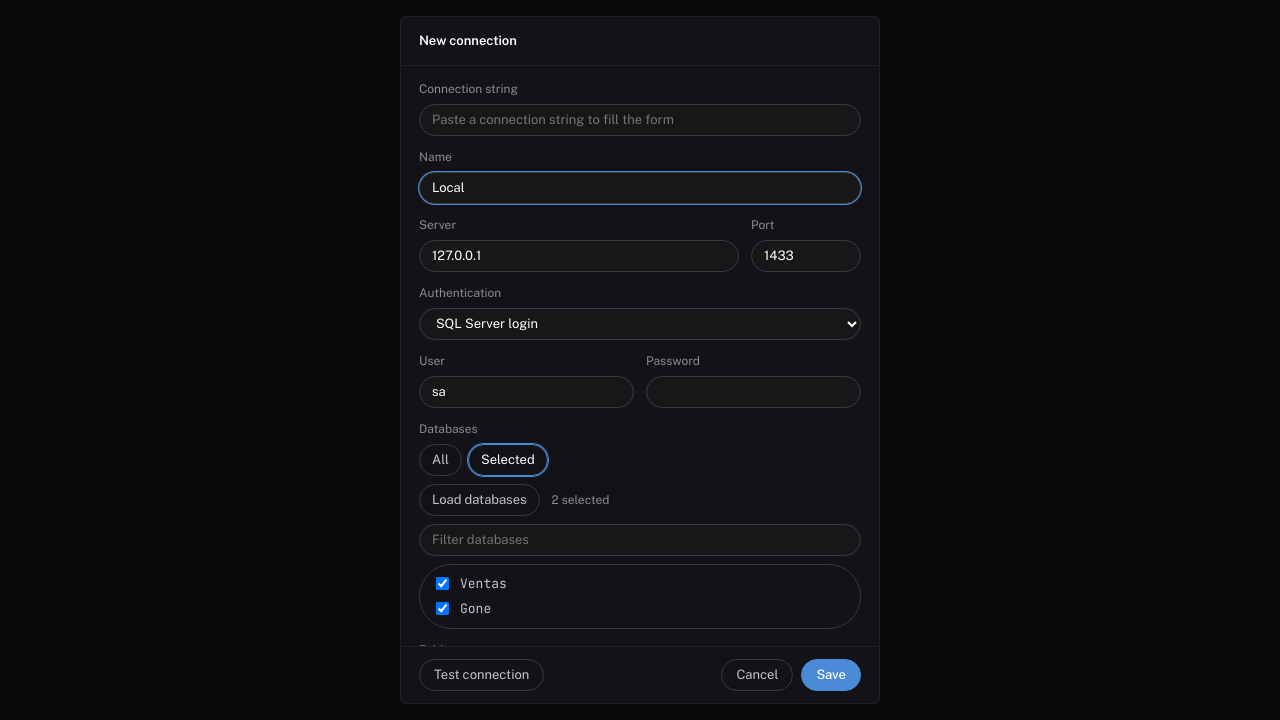
Test case: a password_required answer asks for the password inline
The image size is (1280, 720).
Click the button "Load databases" at coordinates (479, 500), box [419, 484, 540, 516]
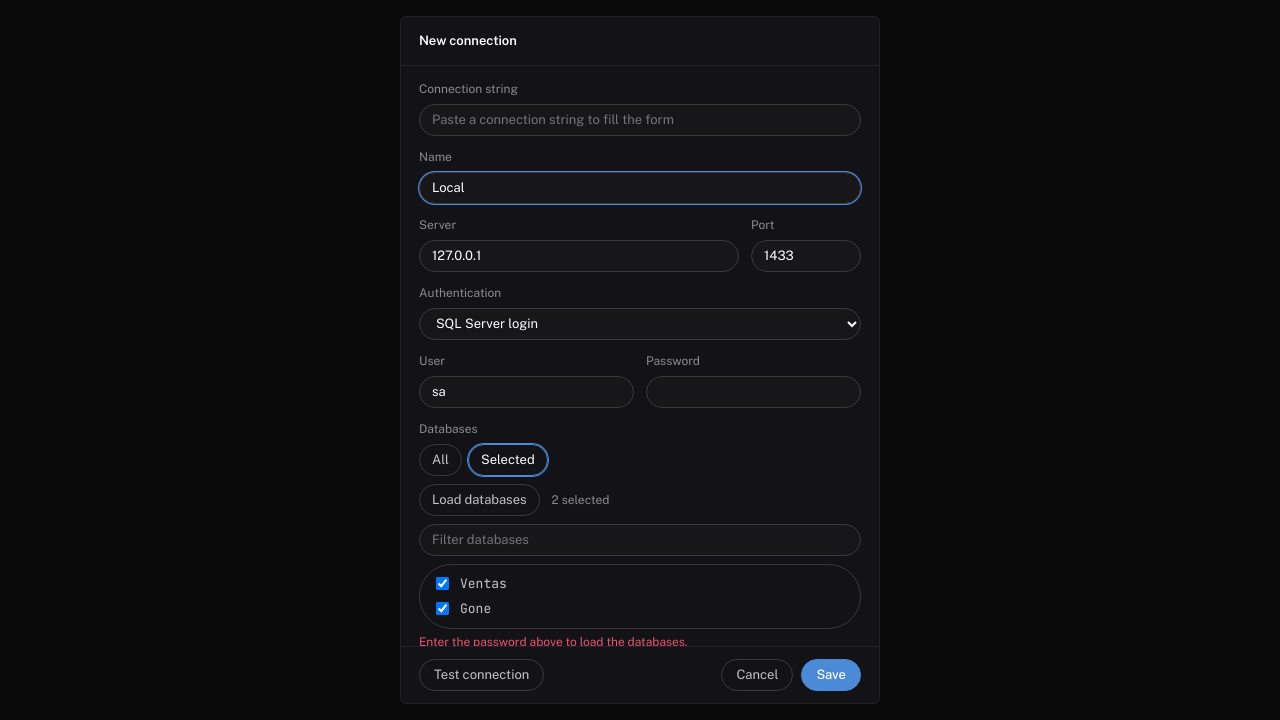
expect the message "Enter the password above to load the databases." is shown: met, box [419, 634, 688, 646]
